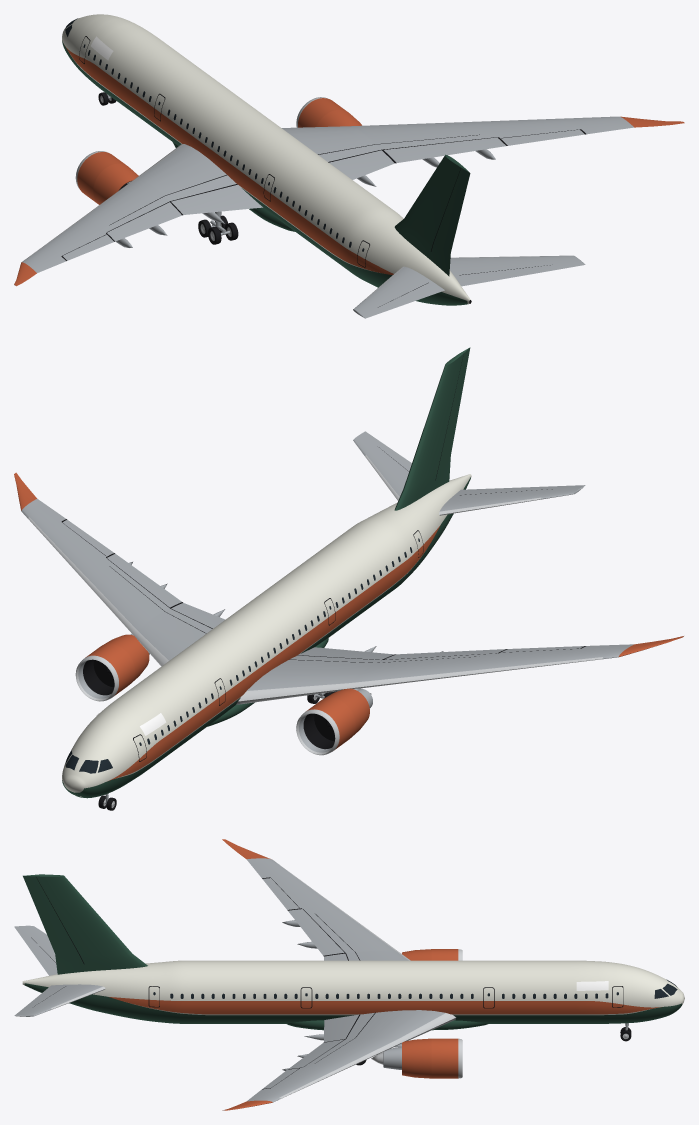
File: jaz-110.glb
The picture shows the model from 3 angles, top to bottom: view 1: azimuth 30°, elevation 25°; view 2: azimuth 150°, elevation 25°; view 3: azimuth 270°, elevation 25°; orthographic projection. The views are drawn at different scales.
Visible parts, largest first — view 1: fuselaje, ala, cintura, estabilizador, deriva, motor, motor-manguito, franja-fija, flap-fuera-derecha-piel, timon-de-direccion-piel, flap-fuera-izquierda-piel, flap-dentro-derecha-piel (+8 smaller); view 2: fuselaje, ala, motor, cintura, deriva, estabilizador, motor-manguito, panza-1, timon-de-direccion-piel, flap-fuera-derecha-piel, franja-fija, panza-0; view 3: fuselaje, ala, cintura, deriva, panza-1, motor, estabilizador, panza-2, timon-de-direccion-piel, motor-manguito, flap-fuera-izquierda-piel, panza-0 (+5 smaller).
Boxes of the visible parts, left/top/right/bottom form: fuselaje: left=62, top=14, right=471, bottom=303; ala: left=14, top=116, right=684, bottom=286; cintura: left=64, top=45, right=393, bottom=274; estabilizador: left=353, top=255, right=585, bottom=318; deriva: left=394, top=154, right=469, bottom=276; motor: left=75, top=97, right=347, bottom=203; motor-manguito: left=93, top=110, right=361, bottom=204; franja-fija: left=109, top=134, right=483, bottom=228; flap-fuera-derecha-piel: left=384, top=137, right=505, bottom=162; timon-de-direccion-piel: left=434, top=168, right=470, bottom=252; flap-fuera-izquierda-piel: left=107, top=202, right=181, bottom=241; flap-dentro-derecha-piel: left=331, top=150, right=394, bottom=179; fuselaje: left=62, top=474, right=471, bottom=796; ala: left=14, top=472, right=683, bottom=704; motor: left=75, top=644, right=372, bottom=755; cintura: left=109, top=525, right=440, bottom=780; deriva: left=394, top=348, right=468, bottom=510; estabilizador: left=353, top=431, right=585, bottom=515; motor-manguito: left=102, top=634, right=369, bottom=737; panza-1: left=147, top=577, right=403, bottom=770; timon-de-direccion-piel: left=439, top=347, right=470, bottom=465; flap-fuera-derecha-piel: left=107, top=553, right=181, bottom=607; franja-fija: left=109, top=564, right=483, bottom=662; panza-0: left=62, top=762, right=152, bottom=798; fuselaje: left=22, top=960, right=684, bottom=1015; ala: left=222, top=839, right=456, bottom=1110; cintura: left=109, top=997, right=661, bottom=1014; deriva: left=23, top=874, right=147, bottom=974; panza-1: left=183, top=1014, right=599, bottom=1023; motor: left=371, top=949, right=462, bottom=1078; estabilizador: left=14, top=925, right=105, bottom=1016; panza-2: left=24, top=983, right=182, bottom=1023; timon-de-direccion-piel: left=23, top=876, right=78, bottom=954; motor-manguito: left=402, top=949, right=431, bottom=1078; flap-fuera-izquierda-piel: left=288, top=909, right=344, bottom=955; panza-0: left=599, top=1003, right=681, bottom=1023.
Size of the model in its own units: 60.1 by 17.01 by 62.81.
